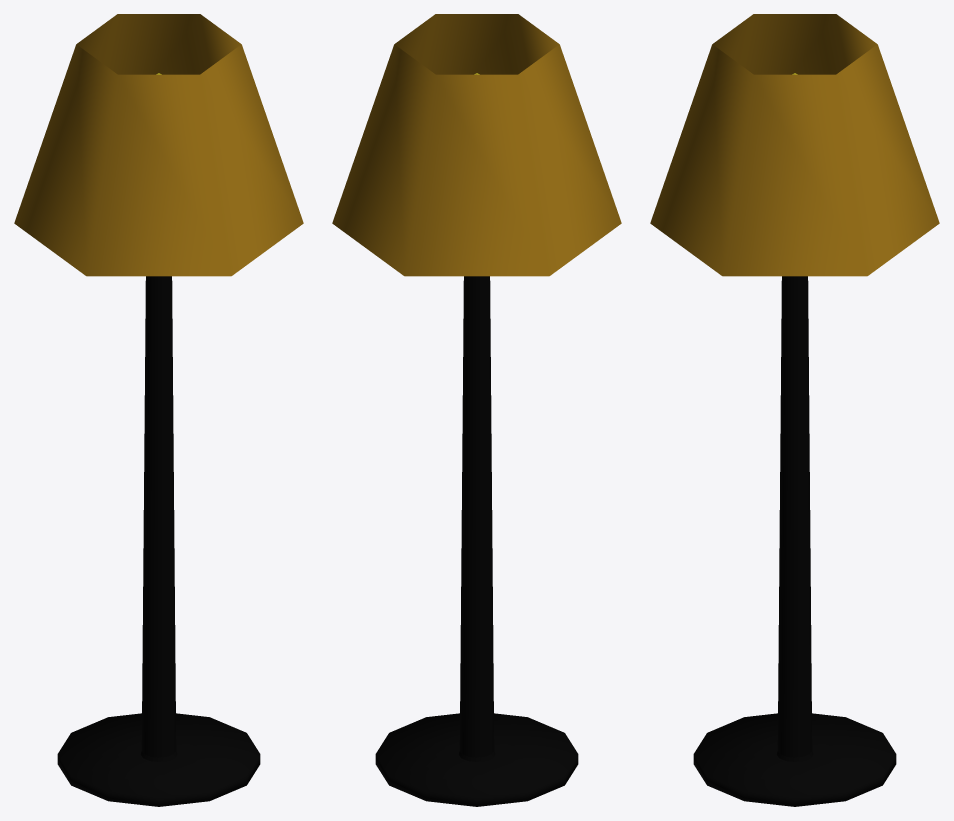
The model's file is Assets2Arthur.fbx_abajourAbelha.fbx.
3 renders of one model, left to right at view 1: azimuth 30°, elevation 25°; view 2: azimuth 150°, elevation 25°; view 3: azimuth 270°, elevation 25°, orthographic.
Parts seen in each view (by area): view 1: abajourAbelha; view 2: abajourAbelha; view 3: abajourAbelha.
Boxes of the visible parts, box(x1,y1,x2,y2) form: abajourAbelha: box(14, 14, 303, 806); abajourAbelha: box(332, 14, 621, 806); abajourAbelha: box(650, 14, 939, 806).
Size of the model in its own units: 109 by 346 by 126.
